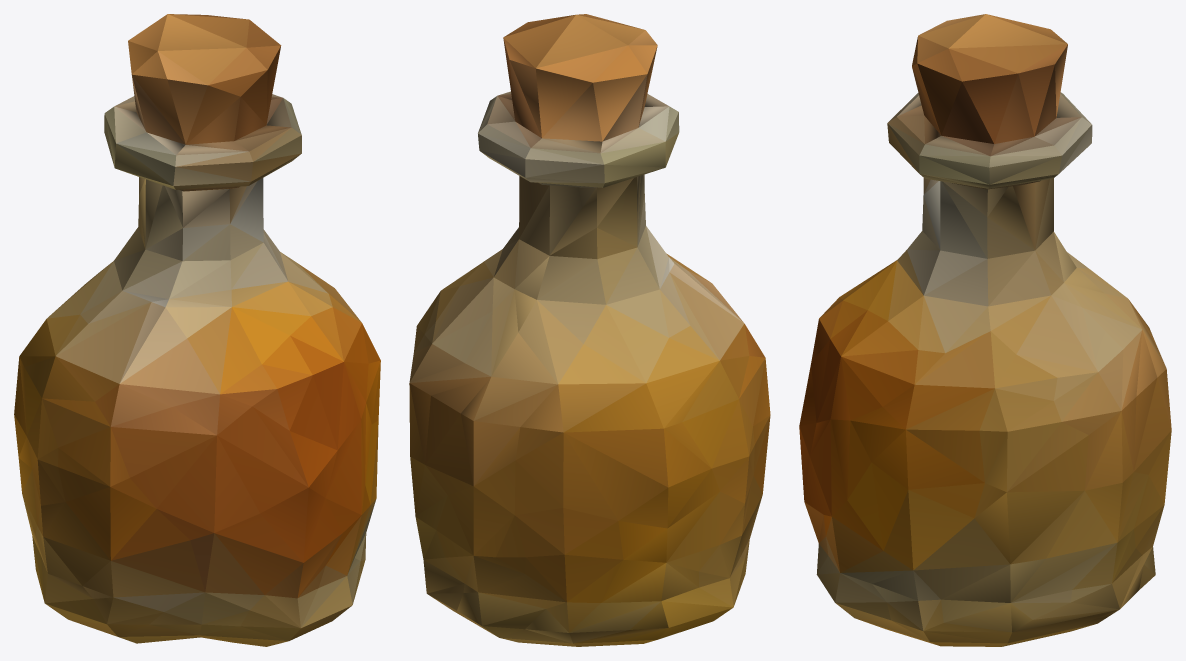
File: building-ruins-bottleVinegar.glb
The picture shows the model from 3 angles, left to right: view 1: azimuth 30°, elevation 25°; view 2: azimuth 150°, elevation 25°; view 3: azimuth 270°, elevation 25°; orthographic projection.
Visible parts, largest first — view 1: 0_ruins-bottleVinegar; view 2: 0_ruins-bottleVinegar; view 3: 0_ruins-bottleVinegar.
Boxes of the visible parts, bbox=[...] form: 0_ruins-bottleVinegar: bbox=[14, 14, 380, 646]; 0_ruins-bottleVinegar: bbox=[409, 14, 770, 646]; 0_ruins-bottleVinegar: bbox=[799, 14, 1171, 646].
Bounding box in the file's own units: 0.1484 × 0.25 × 0.1481.
